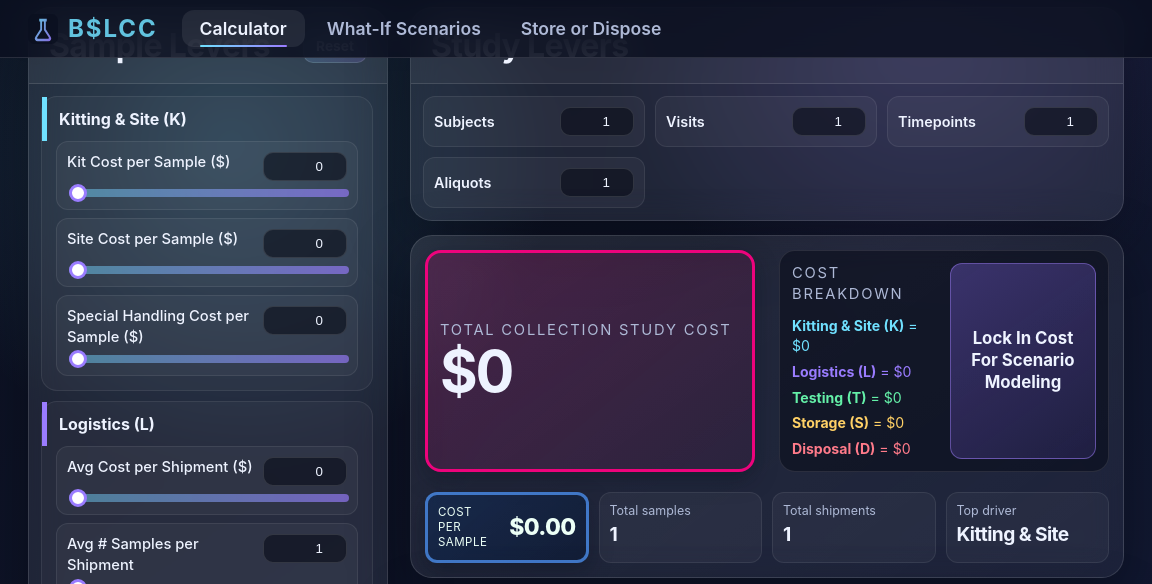
Test: locks values from calculator and opens what-if with baseline and scenario cards
(page scrolled)
Click the button "Lock In Cost For Scenario Modeling". click: [1023, 361]
box: [950,263,1096,459]
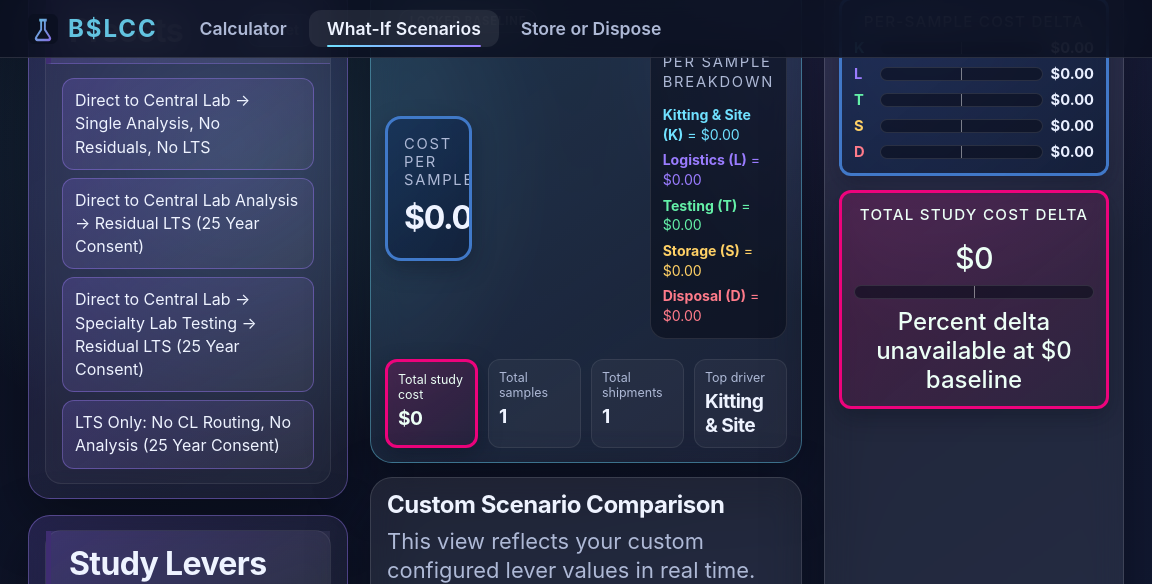
Expected: the text "Locked Baseline" is shown, [399,9,537,33]
Expected: the text "Custom Scenario Comparison" is shown, [387,490,724,519]
